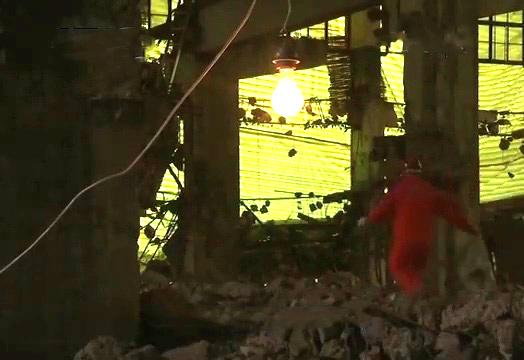helmet: (397, 156, 422, 180)
